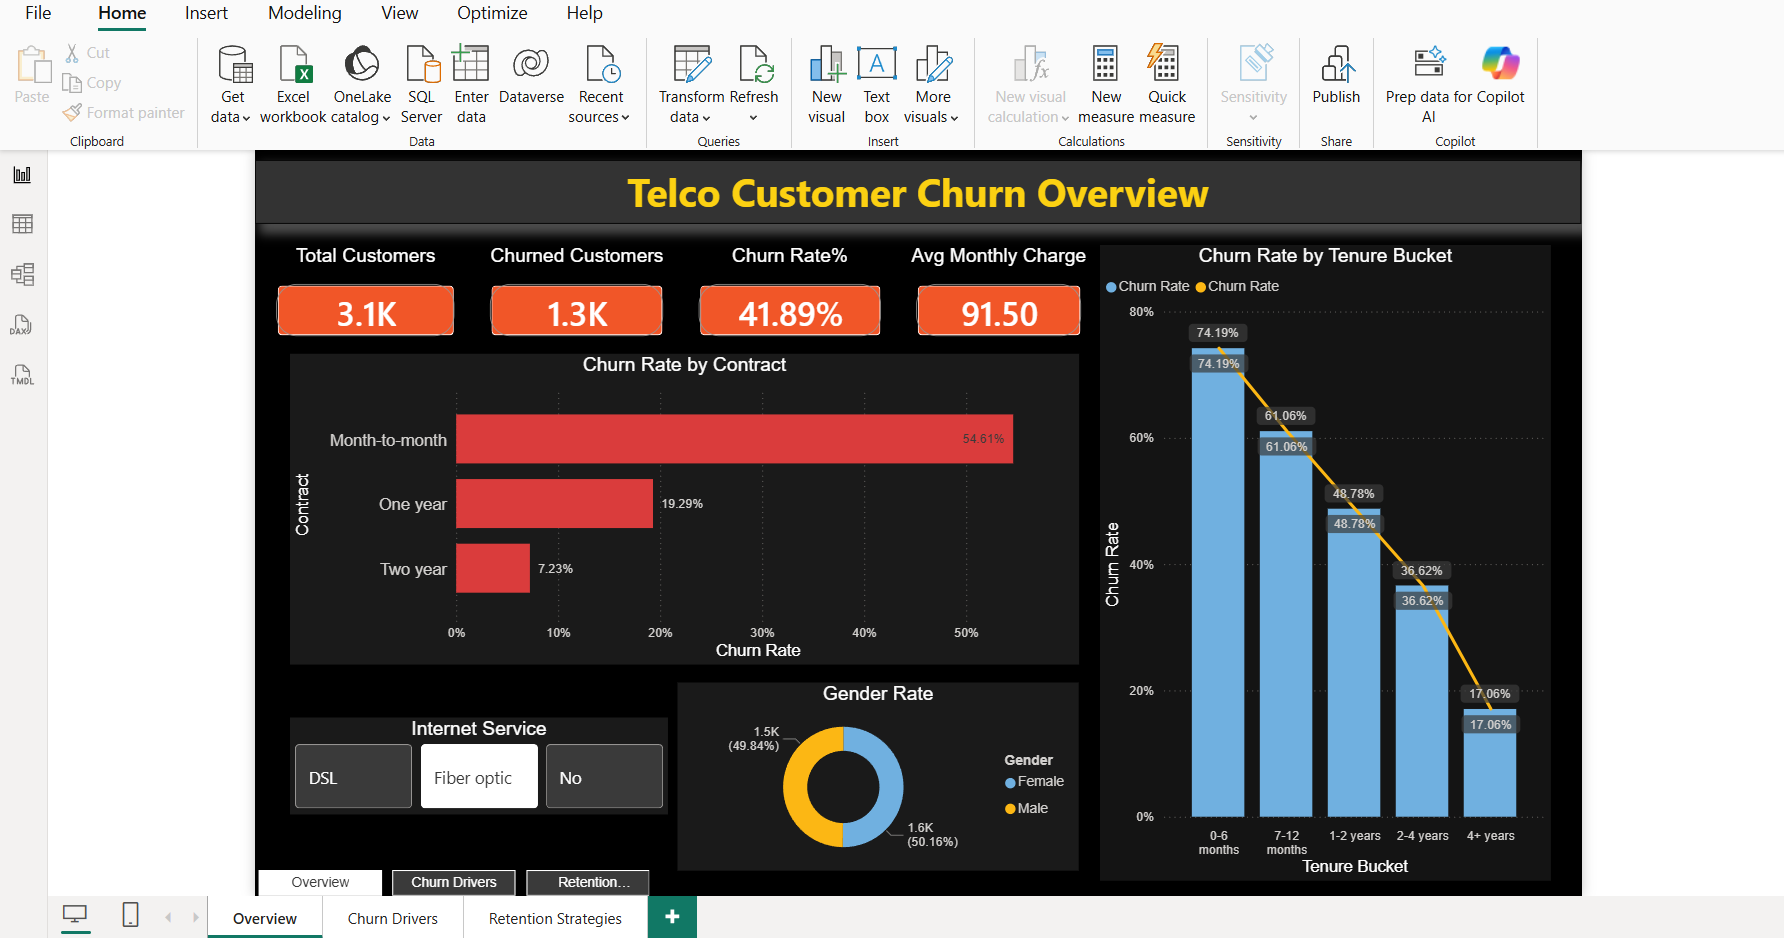

The page's visual inventory and layout, read from the dashboard file:
{"tool":"powerbi","page":{"name":"Overview","canvas":[1280,720],"ordinal":0},"visuals":[{"type":"cardVisual","title":"Churned Customers","fields":{"Data":["Sum(Telco_Churn.Count)"]},"box":[210,91.7,201.7,105],"z":0},{"type":"cardVisual","title":"Avg Monthly Charge","fields":{"Data":["Avg(Telco_Customer_churn.Monthly Charges)"]},"box":[621.7,91.7,193.3,105],"z":1000},{"type":"cardVisual","title":"Total Customers","fields":{"Data":["Sum(Telco_Churn.Count)"]},"box":[3.3,91.7,206.7,105],"z":2000},{"type":"cardVisual","title":"Churn Rate%","fields":{"Data":["Telco_Customer_churn.Churn Rate"]},"box":[411.7,91.7,210,105],"z":3000},{"type":"textbox","box":[0,10,1280,61.4],"z":4000},{"type":"clusteredBarChart","fields":{"Y":["Telco_Customer_churn.Churn Rate"],"Category":["Telco_Customer_churn.Contract"]},"box":[34.3,197.1,761.4,300],"z":5000},{"type":"advancedSlicerVisual","fields":{"Values":["Telco_Customer_churn.Internet Service"]},"box":[33.8,547.5,365,93.8],"z":6000},{"type":"donutChart","title":"Gender Rate","fields":{"Category":["Telco_Customer_churn.Gender"],"Y":["Sum(Telco_Customer_churn.Count)"]},"box":[407.5,513.8,387.5,181.2],"z":7000},{"type":"lineClusteredColumnComboChart","title":" Churn Rate by Tenure Bucket","fields":{"Y":["Telco_Customer_churn.Churn Rate"],"Category":["Telco_Customer_churn.Tenure Bucket"],"Y2":["Telco_Customer_churn.Churn Rate"]},"box":[815,91.7,435,613.3],"z":8000},{"type":"actionButton","box":[0,0,100,40],"z":9000},{"type":"pageNavigator","box":[3.8,695,378.8,25],"z":10000}]}

Visuals, with their boxes on the page's 1280x720 design canvas (x1, y1, x2, y2). These are canvas units, not pixel positions in the 1784x938 screenshot, which may show the page scaled, cropped or inside an application window:
"Churned Customers" cardVisual: rect(210, 92, 412, 197)
"Avg Monthly Charge" cardVisual: rect(622, 92, 815, 197)
"Total Customers" cardVisual: rect(3, 92, 210, 197)
"Churn Rate%" cardVisual: rect(412, 92, 622, 197)
textbox: rect(0, 10, 1280, 71)
clusteredBarChart - Telco_Customer_churn.Churn Rate x Telco_Customer_churn.Contract: rect(34, 197, 796, 497)
advancedSlicerVisual - Telco_Customer_churn.Internet Service: rect(34, 548, 399, 641)
"Gender Rate" donutChart: rect(408, 514, 795, 695)
" Churn Rate by Tenure Bucket" lineClusteredColumnComboChart: rect(815, 92, 1250, 705)
actionButton: rect(0, 0, 100, 40)
pageNavigator: rect(4, 695, 383, 720)
